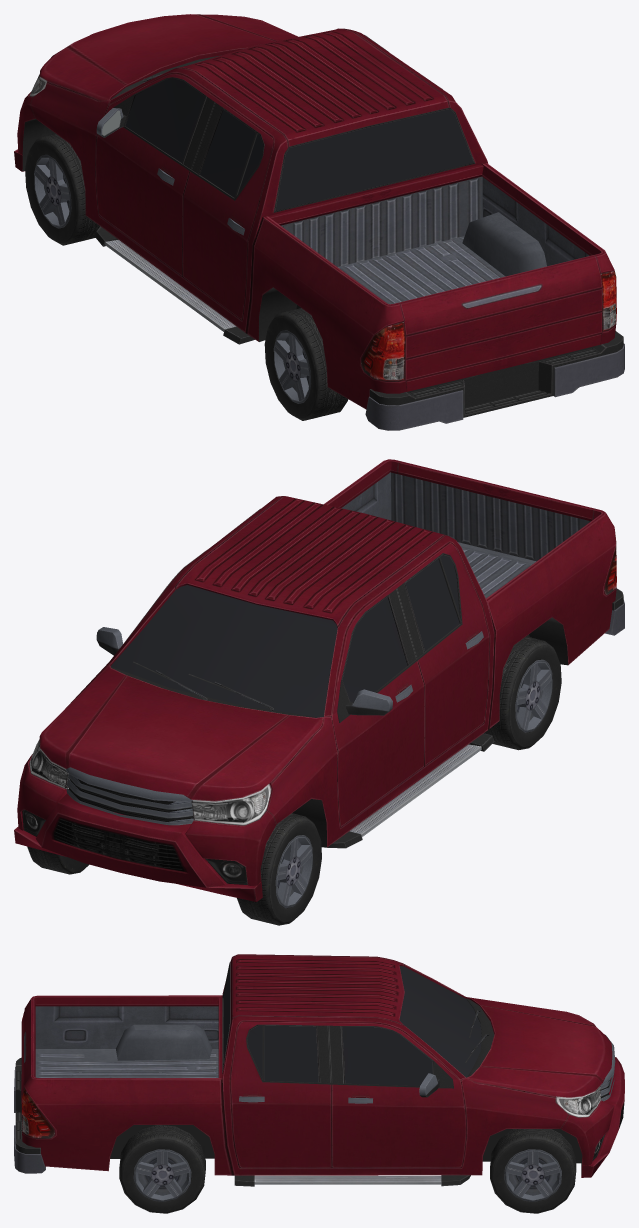
Rendered from Pickup_Truck_Toyota_Hilux.glb.
3 renders of one model, top to bottom at view 1: azimuth 30°, elevation 25°; view 2: azimuth 150°, elevation 25°; view 3: azimuth 270°, elevation 25°, orthographic. The views are drawn at different scales.
Visible parts, largest first — view 1: Pickup_Truck_Toyota_Hilux__LOD3; view 2: Pickup_Truck_Toyota_Hilux__LOD3; view 3: Pickup_Truck_Toyota_Hilux__LOD3.
Part boxes in pixels (box(x1,y1,x2,y2)): Pickup_Truck_Toyota_Hilux__LOD3: box(14, 14, 624, 430); Pickup_Truck_Toyota_Hilux__LOD3: box(14, 459, 624, 925); Pickup_Truck_Toyota_Hilux__LOD3: box(14, 954, 624, 1213).
Size of the model in its own units: 2.55 by 1.99 by 5.96.
Materials: 1 (1 with a texture image).
